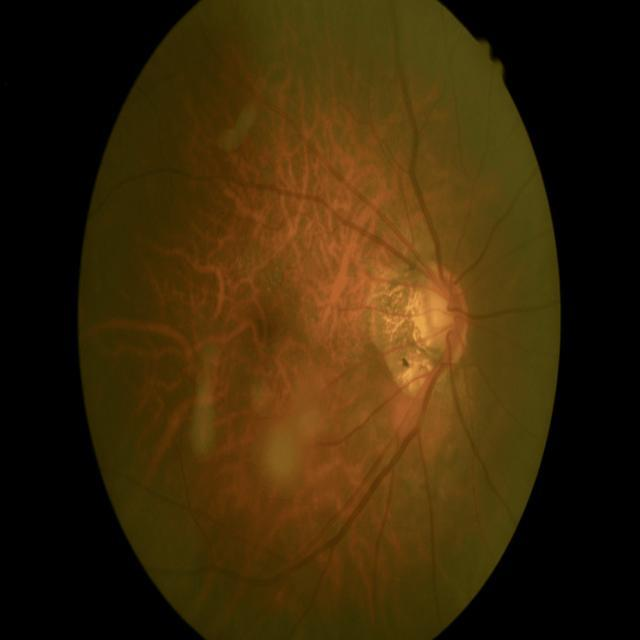cup: (431, 288, 453, 338)
disk: (425, 262, 467, 354)
